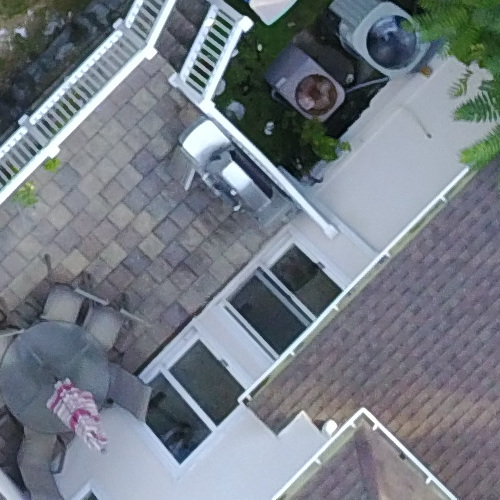air conditioner: (250, 36, 352, 140), (316, 1, 429, 76)
porch: (1, 8, 350, 475)
